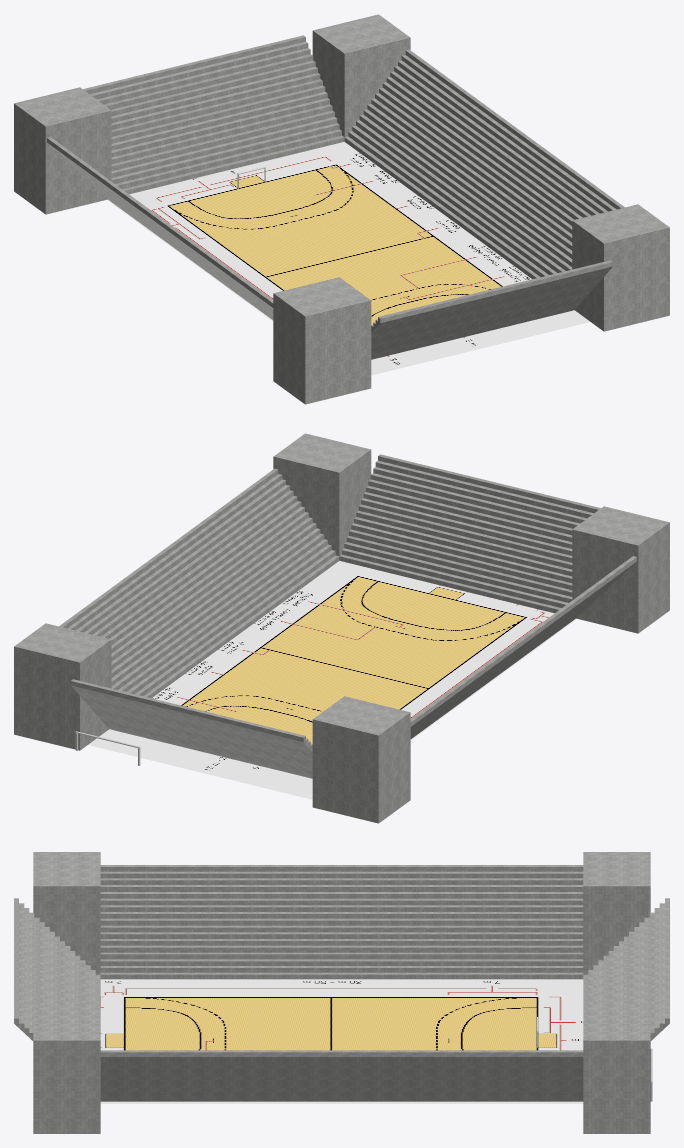
3 views of the same model, one above another, from view 1: azimuth 30°, elevation 25°; view 2: azimuth 150°, elevation 25°; view 3: azimuth 270°, elevation 25° (orthographic). The views are drawn at different scales.
Parts seen in each view (by area): view 1: Gradas003, Surface003; view 2: Gradas003, Surface003; view 3: Gradas003, Surface003.
Boxes of the visible parts, x1,y1,x2,y2 form: Gradas003: [14, 14, 669, 404]; Surface003: [107, 142, 589, 375]; Gradas003: [14, 433, 669, 823]; Surface003: [88, 561, 576, 799]; Gradas003: [14, 852, 669, 1133]; Surface003: [100, 979, 583, 1103].
Bounding box in the file's own units: 53.85 × 12.42 × 79.17.
Materials: 3 (3 with a texture image).
